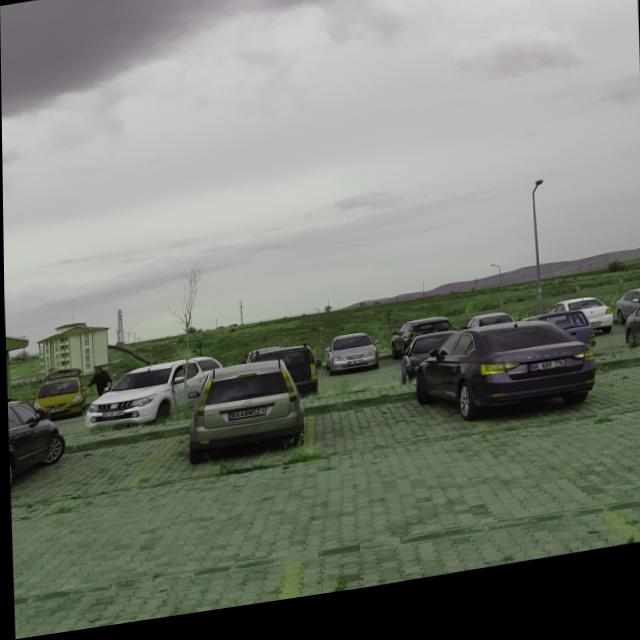license_plate: (526, 374, 564, 389), (226, 415, 264, 427)
